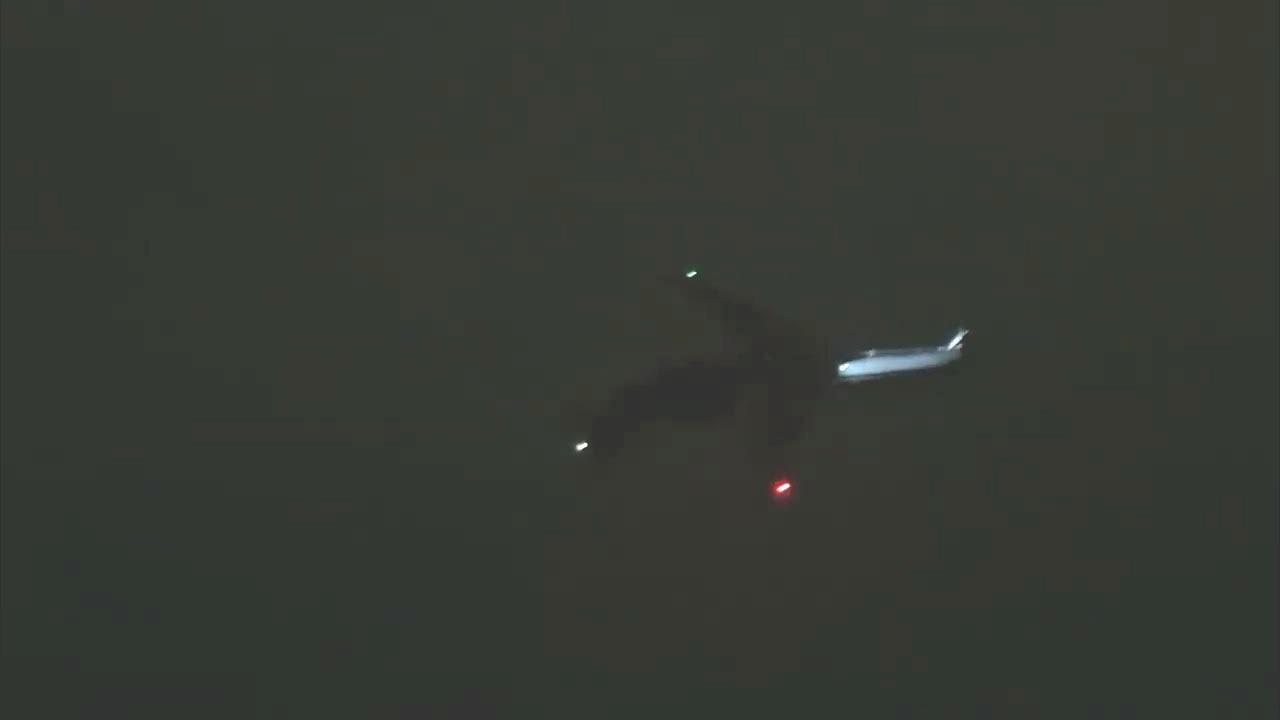Plane: (555, 259, 985, 506)
